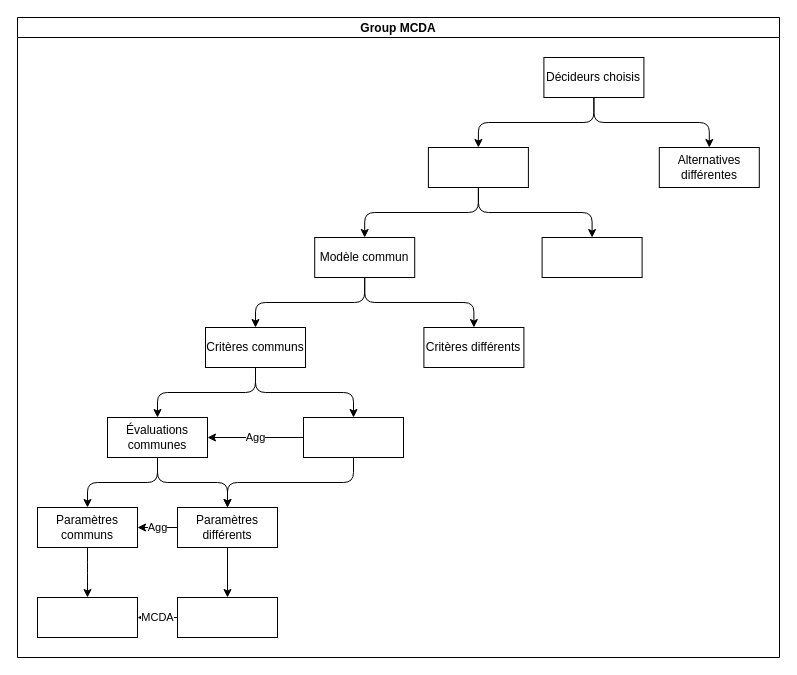
Some shapes in this 797 by 675 pixel diagram are drawn without their labels. The box of each missing label's shape, as (x1, y1, x2, y2) in pixels:
Alternatives communes: (427, 146, 528, 188)
Classement commun: (36, 596, 138, 638)
Classements différents: (176, 596, 278, 638)
Modèles différents: (541, 236, 642, 278)
Évaluations différentes: (302, 416, 404, 458)
